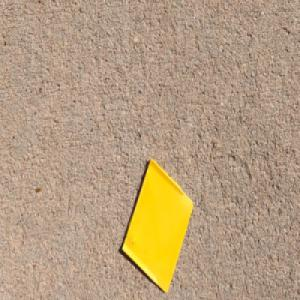PlasticPart: (121, 156, 194, 294)
